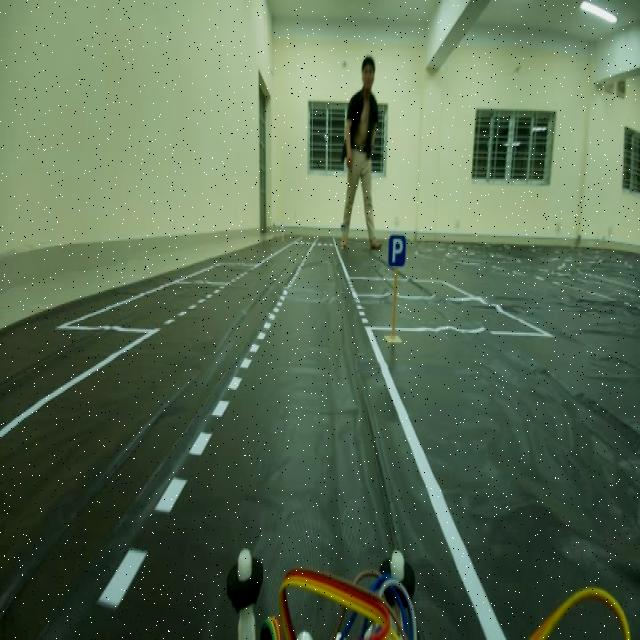parking: (383, 232, 410, 277)
